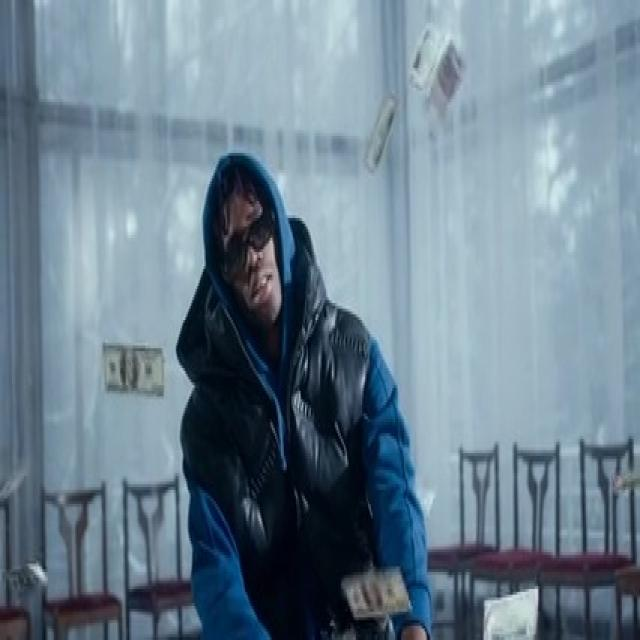Jacket_Wearer: (172, 291, 431, 640)
Person: (174, 155, 438, 614)
